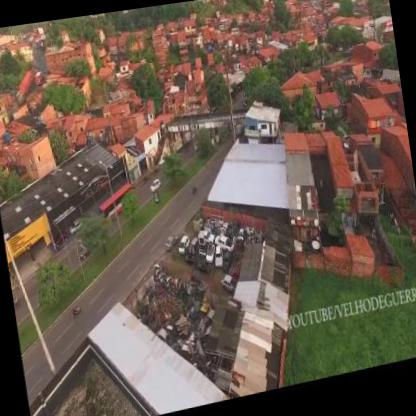lixo: (149, 276, 224, 354), (174, 217, 252, 279)
